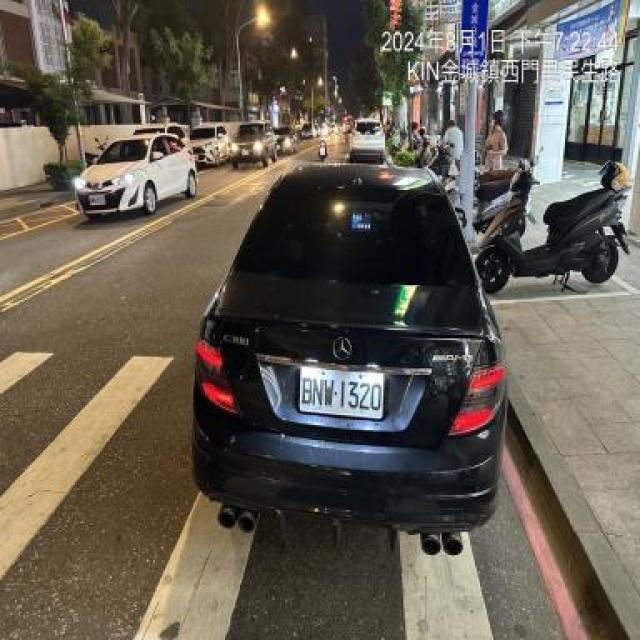Legalparking: (468, 141, 640, 297), (458, 166, 518, 227)
illegalparking: (188, 150, 512, 560)
